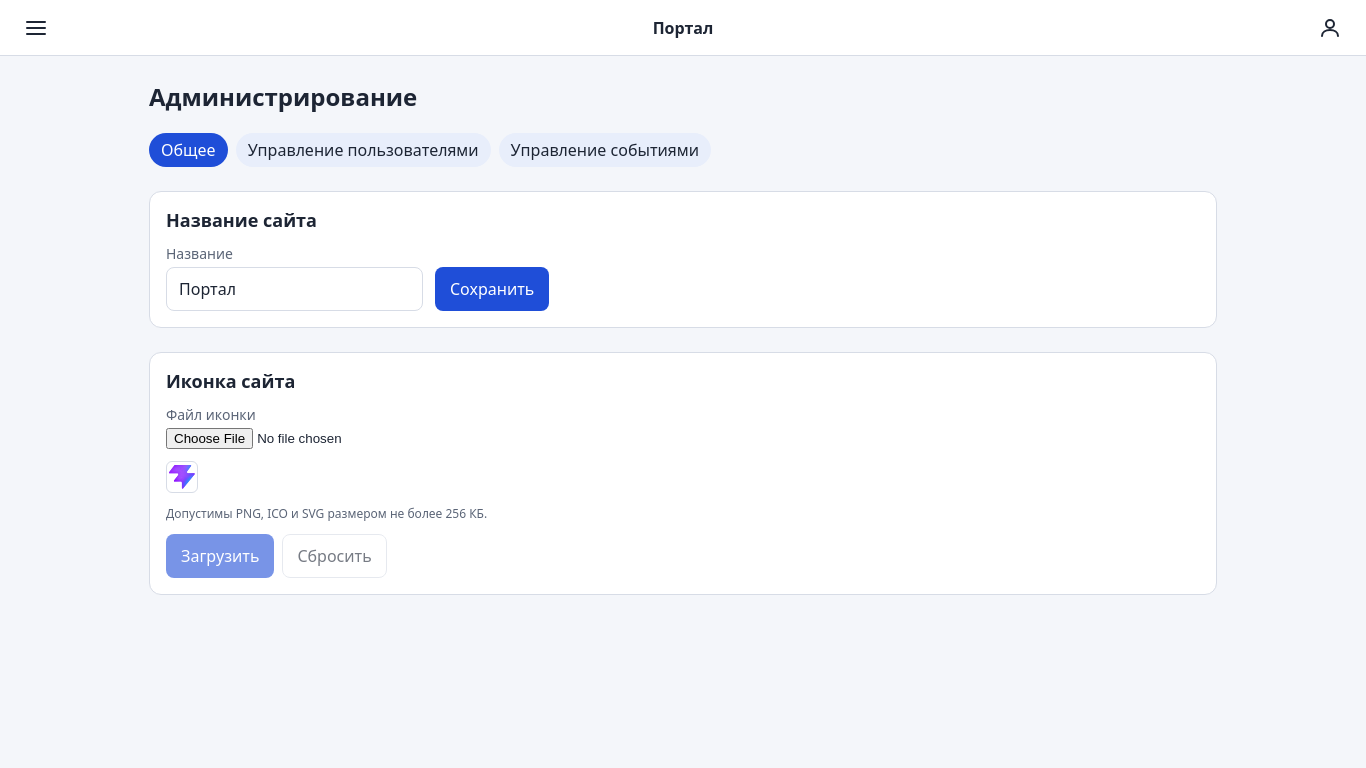
Test: раздел «Администрирование» › администратор видит три блока и переключается между ними без смешения
The image size is (1366, 768).
expect the link "Общее" is shown: met, box [149,133,228,167]
expect the link "Управление событиями" is shown: met, box [499,133,711,167]
Click the link "Управление пользователями": [363, 150] box [236,133,491,167]
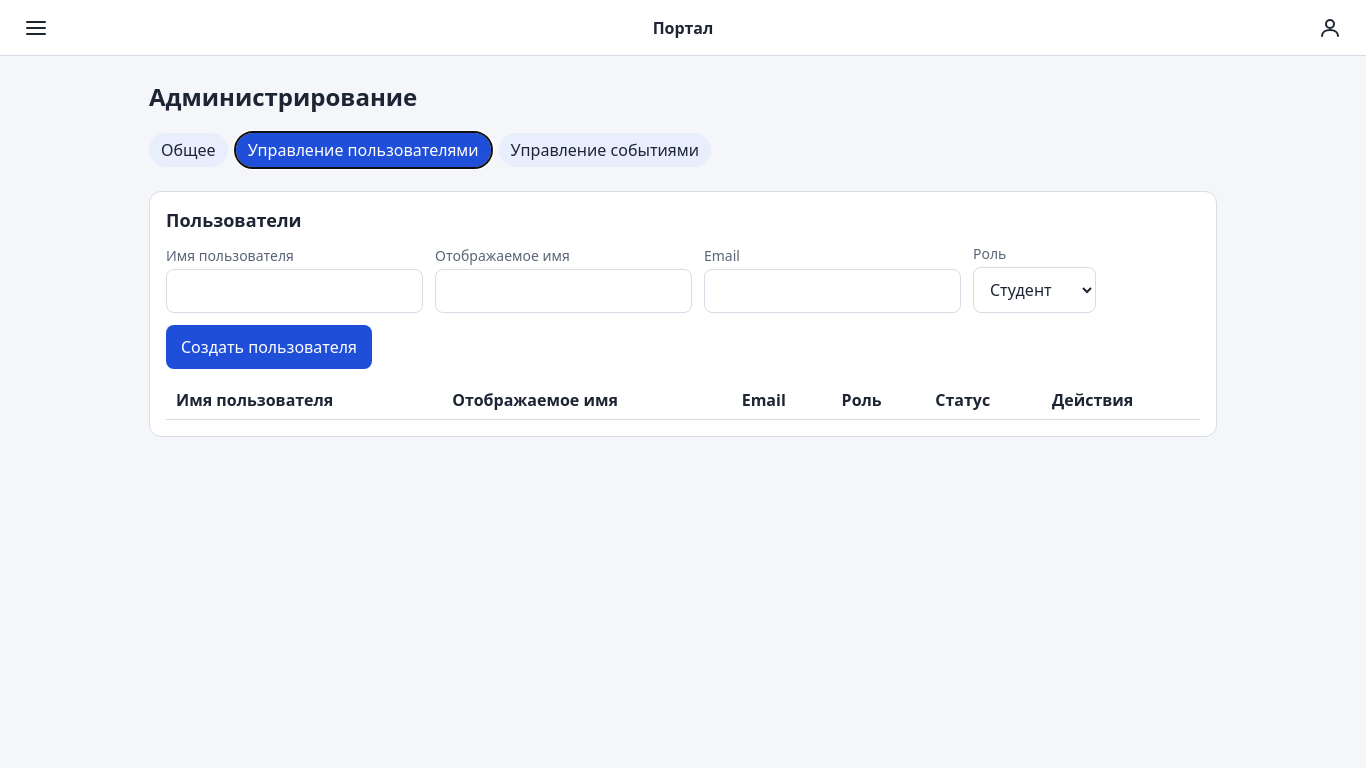
expect the heading "Пользователи" is shown: met, box [166,208,302,232]
expect the heading "Название сайта" is gone: met
Click the link "Управление событиями": [605, 150] box [499,133,711,167]
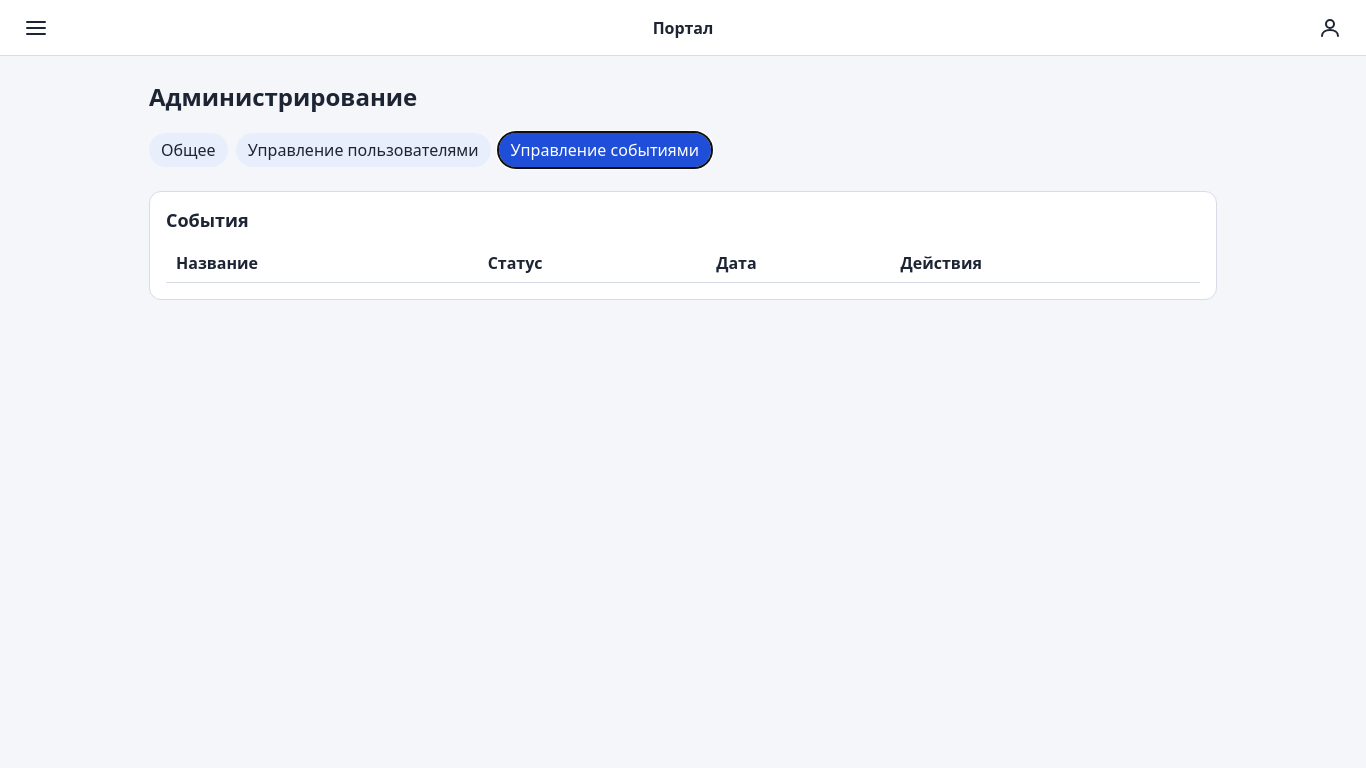
expect the heading "Название сайта" is not shown: met
expect the heading "События" is shown: met, box [166,208,249,232]
expect the heading "Пользователи" is gone: met
